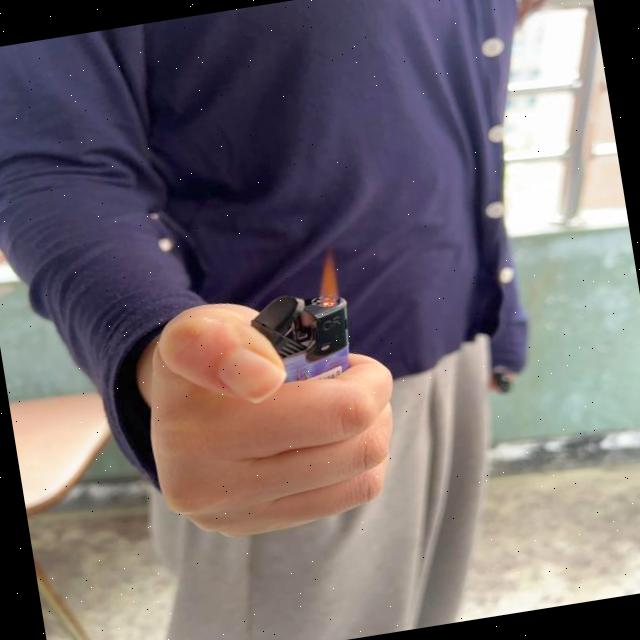fire: (312, 250, 344, 310)
